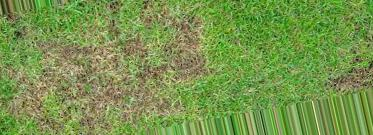patch: (34, 45, 167, 111)
